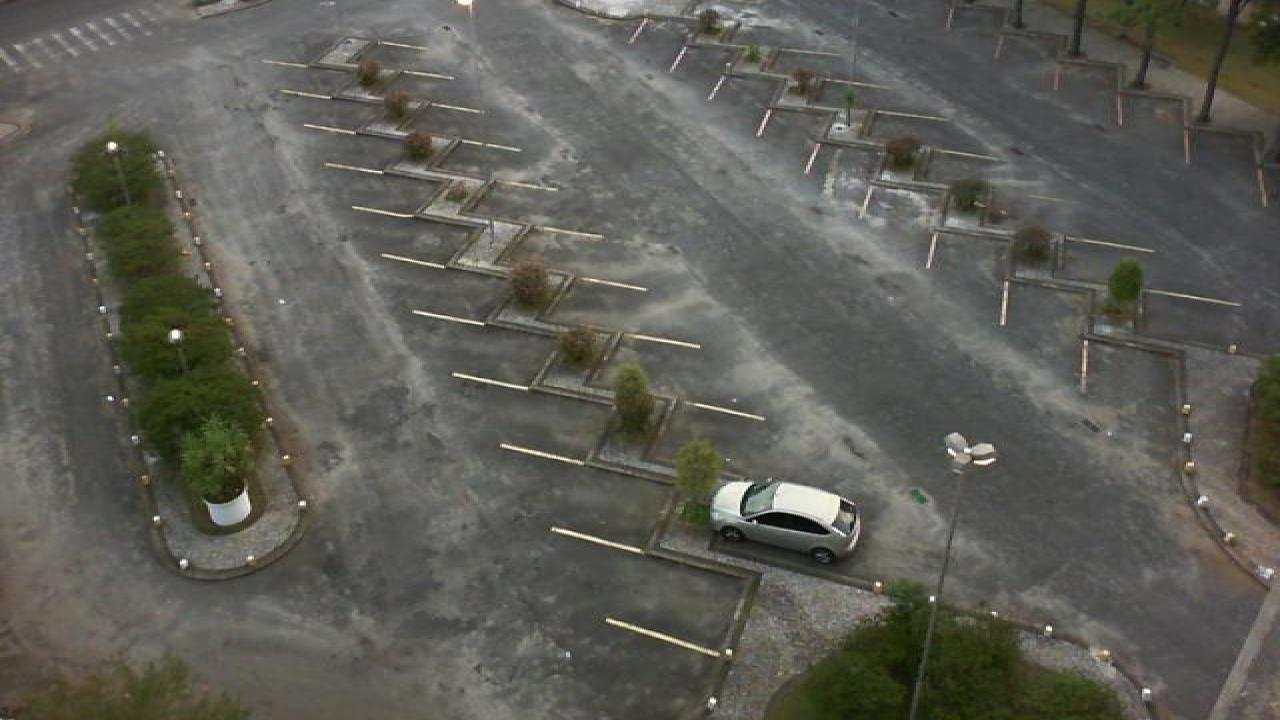Car: (708, 477, 864, 566)
